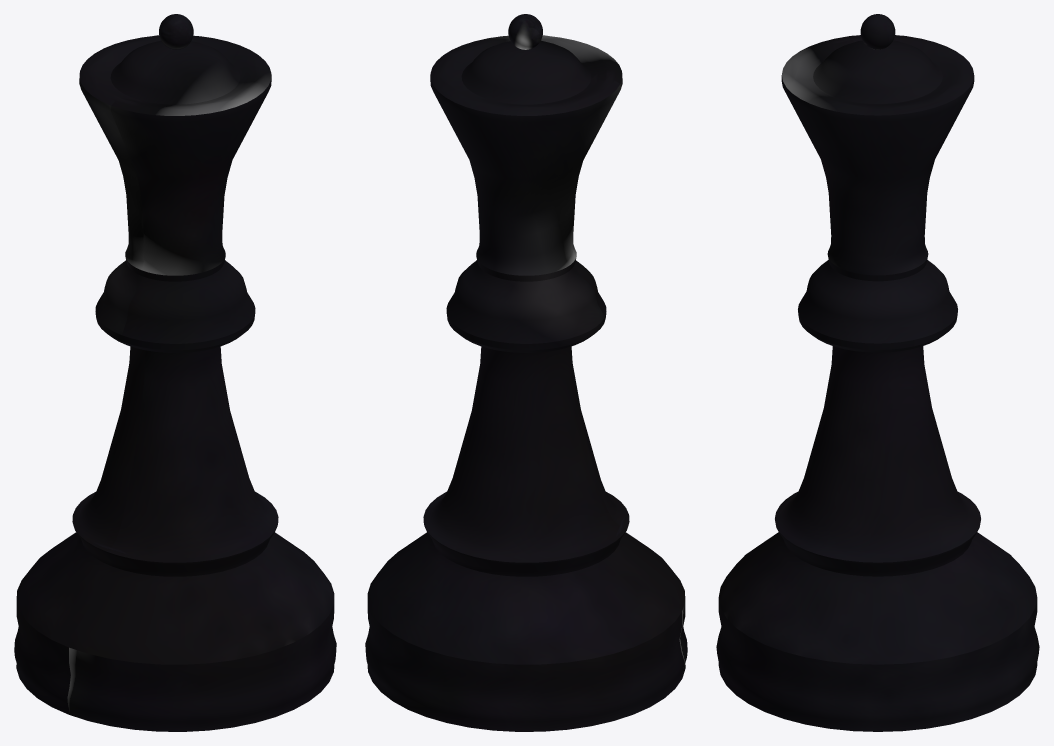
The model's file is reina_Negras.glb.
The picture shows the model from 3 angles, left to right: view 1: azimuth 30°, elevation 25°; view 2: azimuth 150°, elevation 25°; view 3: azimuth 270°, elevation 25°; orthographic projection.
Visible parts, largest first — view 1: defaultMaterial.015; view 2: defaultMaterial.015; view 3: defaultMaterial.015.
Part boxes in pixels (box(x1,y1,x2,y2)): defaultMaterial.015: box(14, 14, 336, 731); defaultMaterial.015: box(365, 14, 687, 731); defaultMaterial.015: box(716, 14, 1039, 731).
Bounding box in the file's own units: 0.8307 × 1.85 × 0.8307.
1 material, 1 textured.
